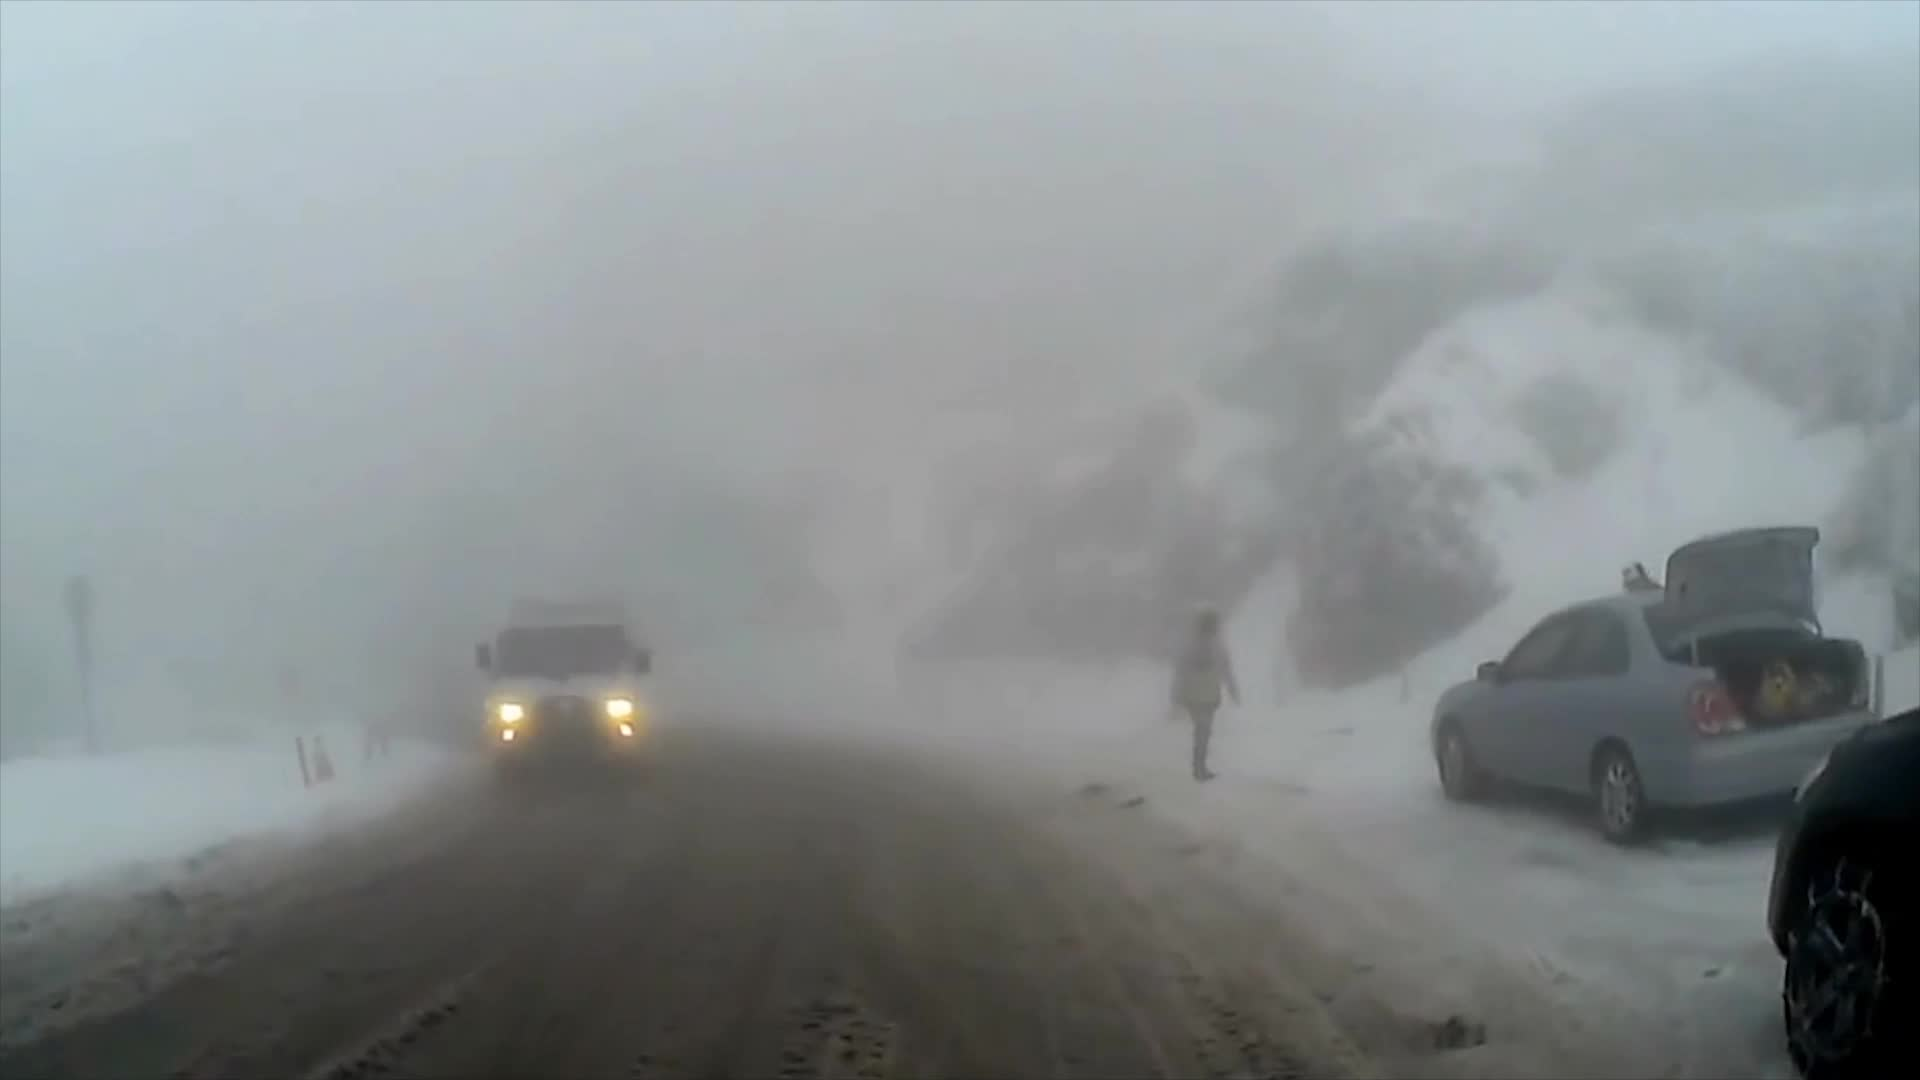pedestrian: (1167, 606, 1239, 790)
vehicle: (1430, 515, 1893, 848), (1768, 702, 1919, 1079), (469, 597, 653, 798)
